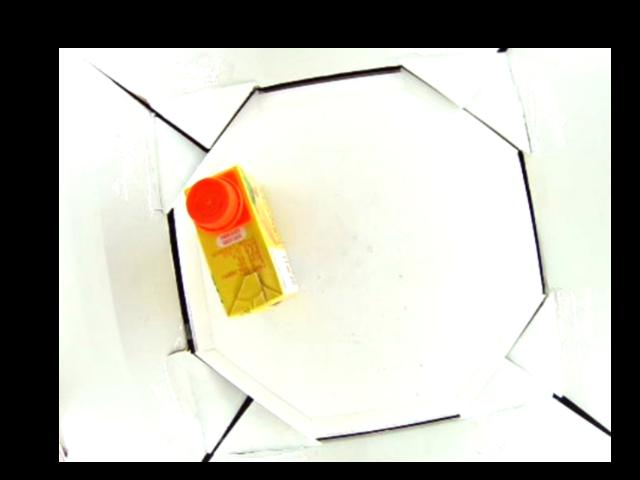Bottle: (181, 164, 298, 322)
